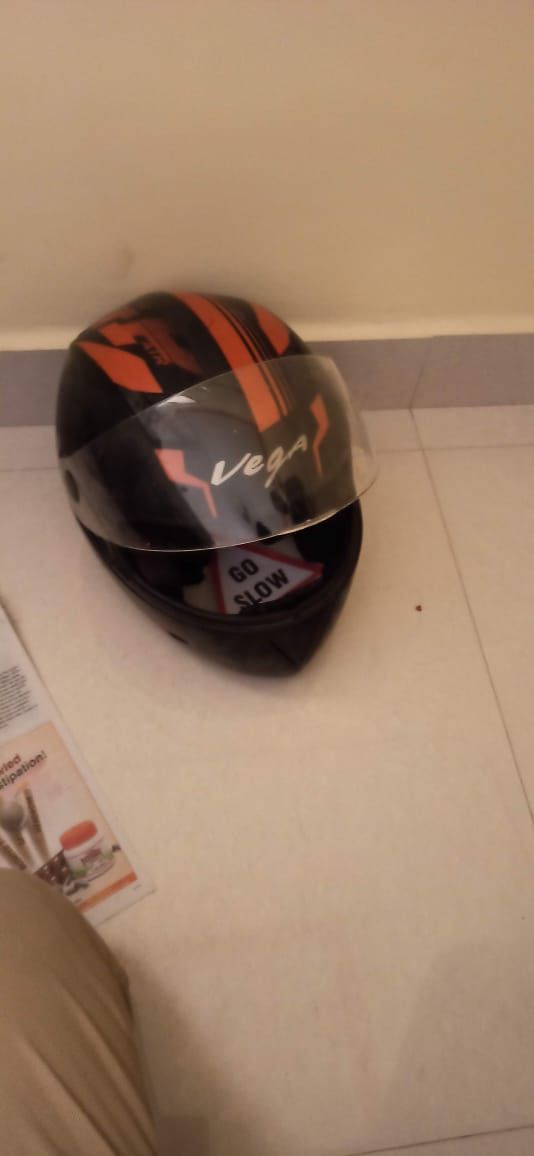GO SLOW: (204, 531, 337, 627)
